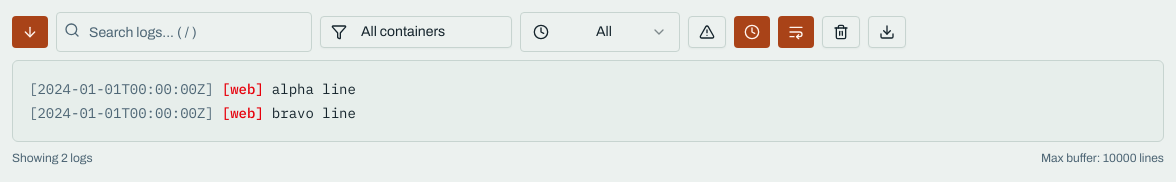
Test case: LogViewer › filters logs by search term using stripped text
Type "bravo" into the field with placeholder "Search logs... ( / )".
click(184, 32); type("bravo")  # box [56,12,312,52]
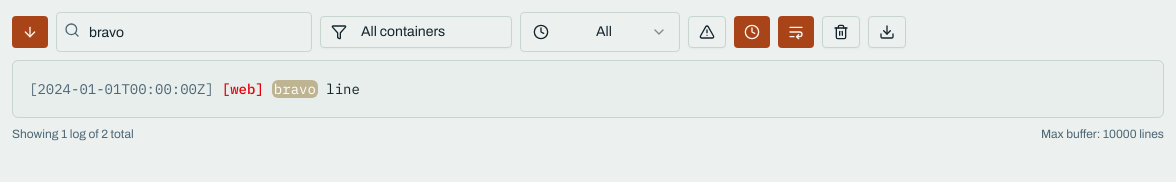
Expected: the text "bravo" is shown, [272,80,318,98]
Now the text "alpha" is gone
